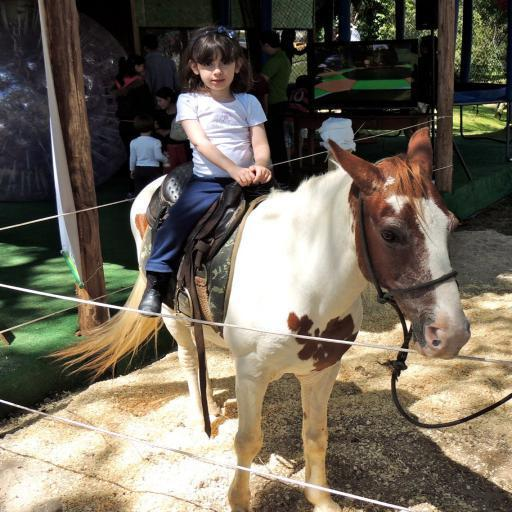horse: (38, 124, 471, 512)
